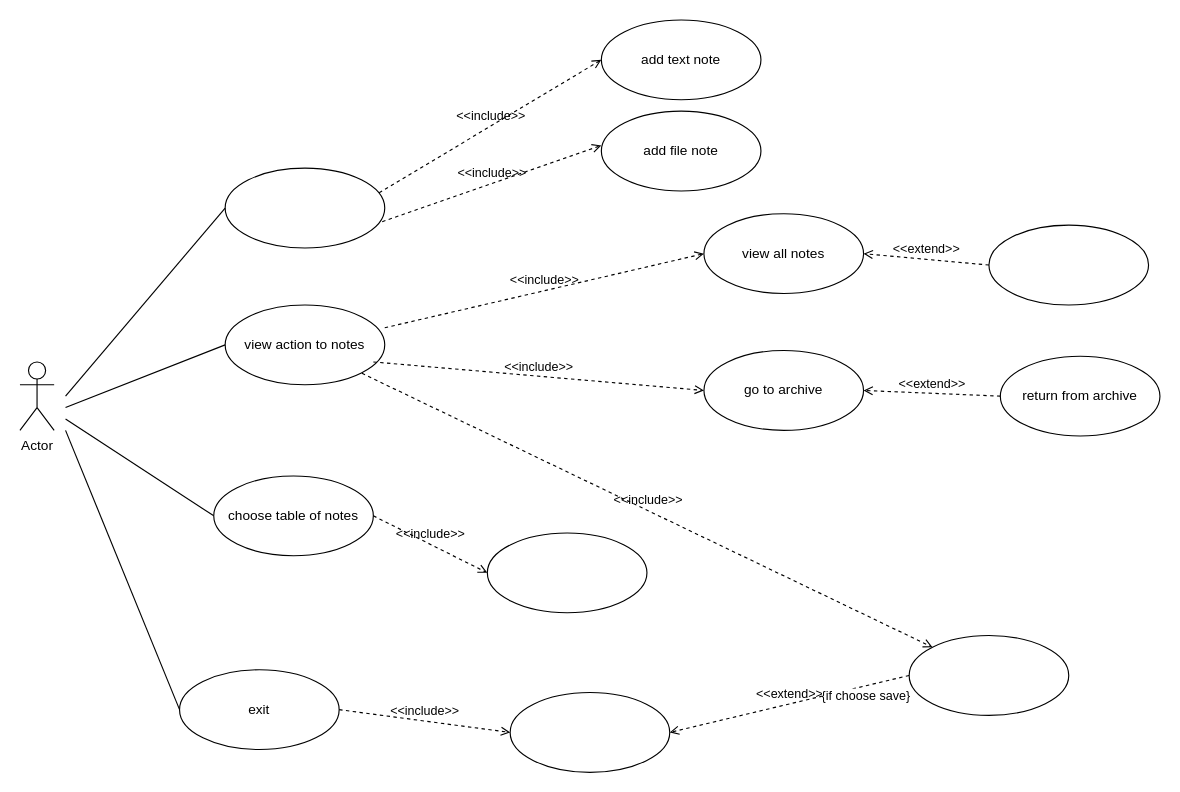
Image size: 1180x792. Some labels were removed from this diagram. The centre of each missing label's shape, as x and y in pixels:
add note: (304,207)
choose to save changes or not: (589,731)
save changes: (988,674)
transport to archive: (1068,264)
view all notes in table: (566,572)
